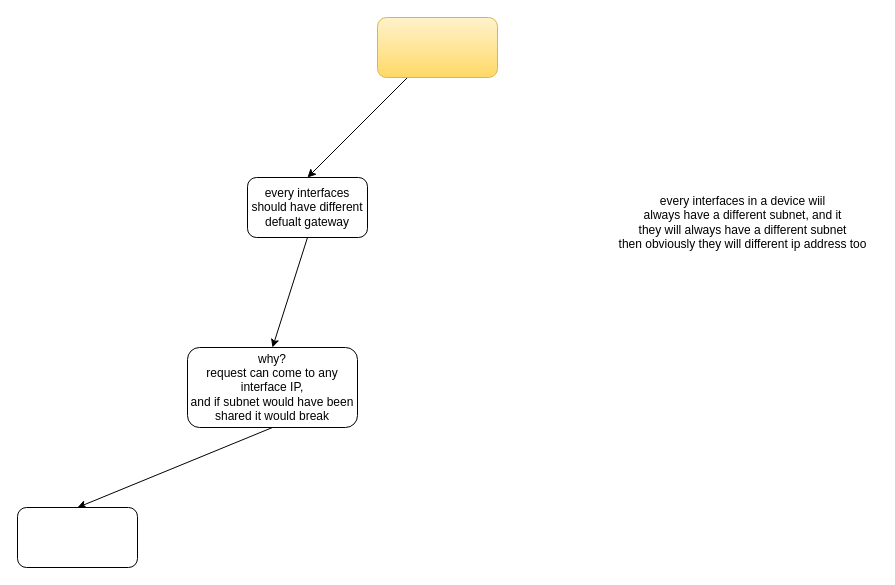
Some shapes in this 895 by 585 pixel diagram are drawn without their labels. Each missing label, with the centre of its shape:
"ARP request?" goes at (77,537).
"multiple network interfacs" goes at (437,47).
